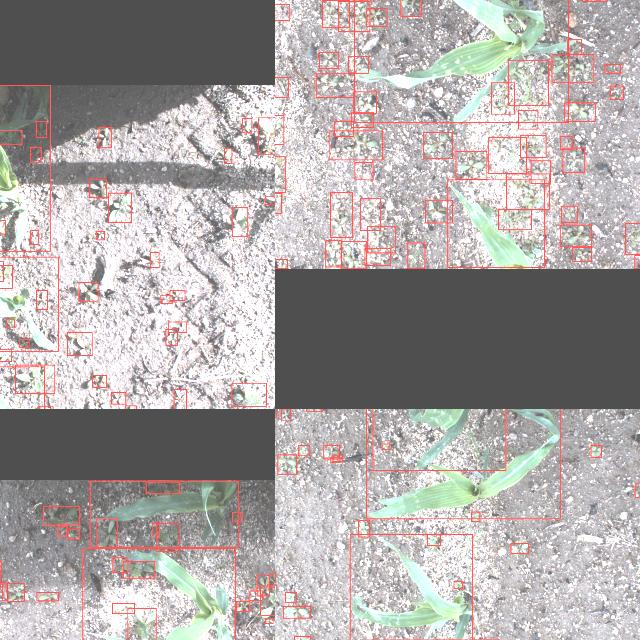crop: (354, 0, 568, 122), (366, 409, 560, 519), (82, 548, 234, 640), (349, 534, 472, 640), (89, 480, 237, 548), (446, 180, 544, 268), (0, 85, 50, 251), (372, 409, 505, 470), (0, 256, 58, 351), (0, 366, 43, 409)
weed: (508, 61, 548, 106), (328, 130, 382, 160), (506, 174, 548, 210), (488, 137, 526, 173), (14, 364, 54, 394), (551, 54, 593, 82), (330, 192, 352, 238), (316, 73, 354, 97), (338, 1, 368, 31), (127, 608, 155, 640), (456, 151, 486, 179), (230, 384, 266, 406), (422, 132, 452, 158), (491, 82, 514, 114), (367, 227, 395, 253), (559, 225, 591, 247), (321, 0, 348, 26), (340, 242, 366, 268), (108, 193, 130, 223), (257, 117, 275, 153), (43, 506, 79, 524), (424, 200, 452, 223), (498, 210, 530, 230), (359, 199, 379, 231), (95, 518, 116, 548), (66, 332, 92, 356), (519, 134, 545, 158), (156, 523, 178, 551), (122, 560, 154, 578), (564, 102, 594, 121), (562, 148, 584, 172), (352, 91, 376, 113), (624, 223, 640, 254), (259, 585, 275, 615), (364, 248, 390, 266), (406, 243, 424, 269), (530, 160, 550, 183), (231, 208, 247, 236), (145, 481, 179, 493), (78, 282, 98, 302), (276, 454, 296, 474), (351, 112, 374, 128), (326, 241, 340, 267), (517, 110, 537, 128), (366, 8, 386, 26), (88, 178, 105, 198), (282, 606, 310, 618), (354, 162, 372, 180), (275, 157, 284, 193), (6, 583, 24, 601), (400, 0, 420, 16), (318, 52, 338, 68), (348, 56, 368, 72), (0, 130, 21, 144), (333, 122, 353, 136), (0, 265, 12, 288), (98, 126, 110, 148), (275, 77, 288, 97), (561, 206, 577, 222), (572, 248, 590, 262), (172, 390, 185, 409), (256, 575, 268, 595), (275, 115, 283, 144), (112, 558, 128, 572), (323, 445, 339, 459), (112, 603, 134, 613), (275, 4, 288, 20), (36, 290, 46, 310), (567, 40, 581, 54), (165, 329, 177, 345), (110, 392, 126, 404), (168, 322, 186, 332), (358, 520, 368, 538), (510, 543, 528, 553), (36, 592, 58, 600), (92, 375, 106, 387), (560, 136, 572, 150), (610, 85, 622, 99), (36, 121, 46, 137), (426, 534, 439, 546), (241, 118, 251, 132), (170, 290, 184, 300), (30, 148, 40, 162), (0, 350, 11, 362), (237, 601, 250, 611), (223, 148, 231, 164), (150, 252, 158, 268), (604, 64, 620, 72), (249, 590, 261, 600), (67, 529, 79, 539), (297, 445, 309, 455), (590, 445, 600, 457), (284, 592, 296, 602), (30, 230, 38, 244), (280, 409, 290, 420), (275, 193, 280, 213), (232, 512, 242, 522), (470, 511, 480, 521), (275, 259, 286, 268), (160, 295, 172, 303), (264, 196, 275, 204), (269, 573, 275, 587), (152, 522, 158, 536), (634, 484, 640, 498), (96, 230, 104, 240), (19, 339, 29, 347), (58, 526, 66, 536), (2, 582, 6, 600), (331, 455, 342, 461), (5, 320, 13, 328), (294, 636, 310, 640), (0, 220, 4, 234), (453, 582, 462, 588), (264, 618, 272, 624), (329, 458, 339, 462), (124, 406, 135, 409), (381, 444, 389, 448)
